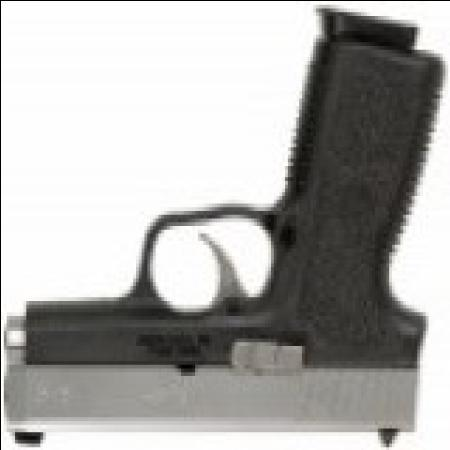Pistol: (3, 23, 436, 442)
